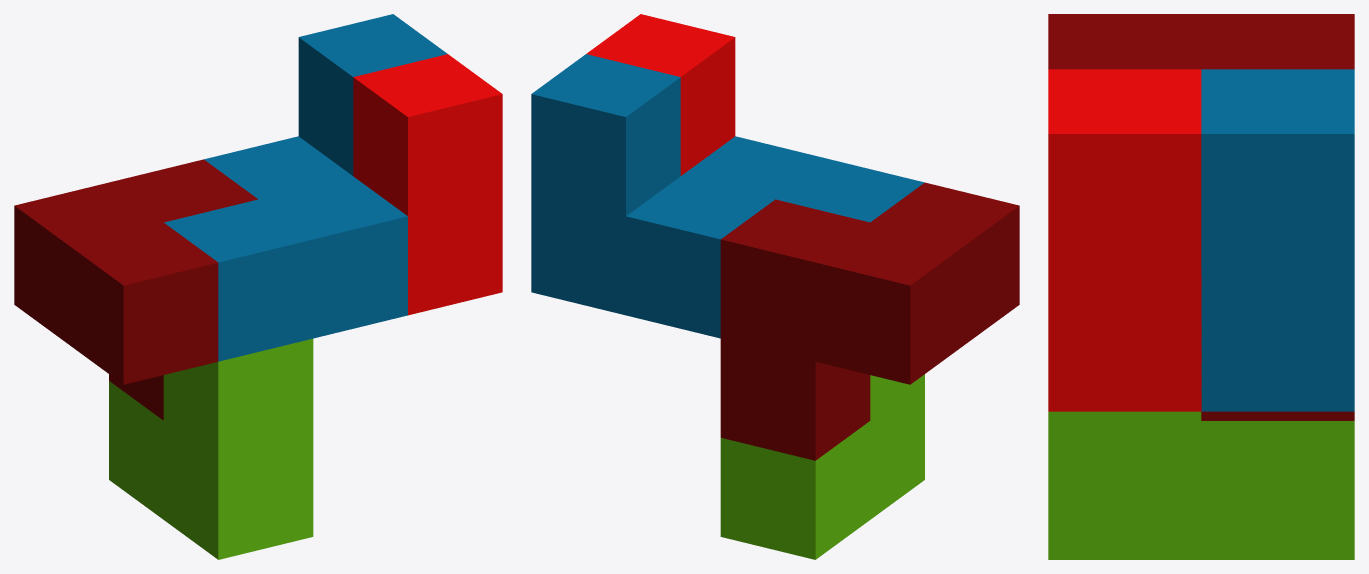
The picture shows the model from 3 angles, left to right: view 1: azimuth 30°, elevation 25°; view 2: azimuth 150°, elevation 25°; view 3: azimuth 270°, elevation 25°; orthographic projection. The views are drawn at different scales.
Parts seen in each view (by area): view 1: mergedBlocks(Clone); view 2: mergedBlocks(Clone); view 3: mergedBlocks(Clone).
Part boxes in pixels (box(x1,y1,x2,y2)): mergedBlocks(Clone): box(14, 14, 502, 559); mergedBlocks(Clone): box(531, 14, 1019, 559); mergedBlocks(Clone): box(1048, 14, 1354, 559).
Bounding box in the file's own units: 4 × 4 × 2.
4 materials, 4 textured.
